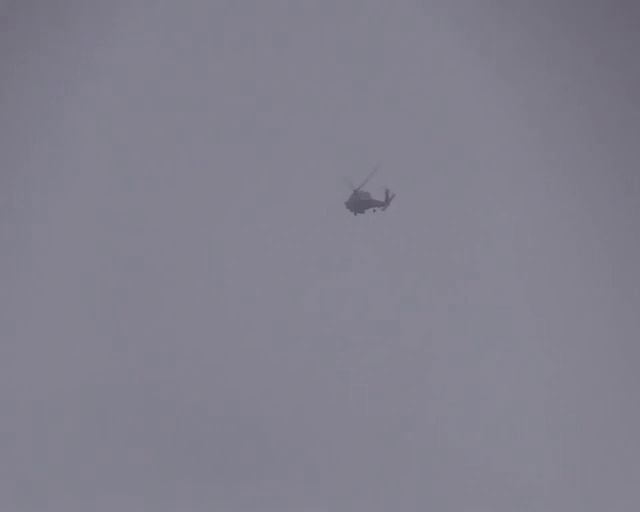HELICOPTER: (342, 158, 395, 216)
